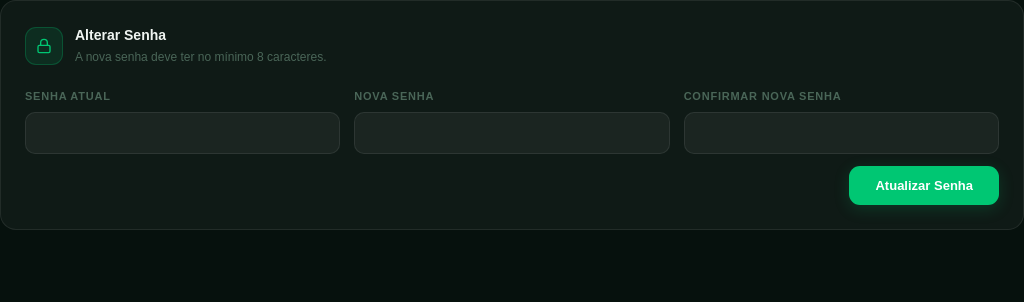
SecurityPasswordForm › falha técnica não limpa os campos nem finge sucesso
The width and height of the screenshot is (1024, 302).
Type "old-pass" into the password field labelled "Senha Atual".
click(183, 133); type("old-pass")  # box [25, 112, 340, 154]
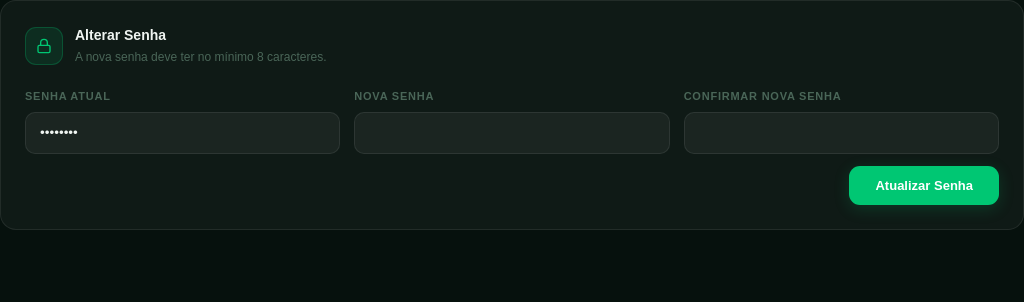
Type "NovaSenhaForte@123" into the password field labelled "Nova Senha".
click(512, 133); type("NovaSenhaForte@123")  # box [354, 112, 670, 154]
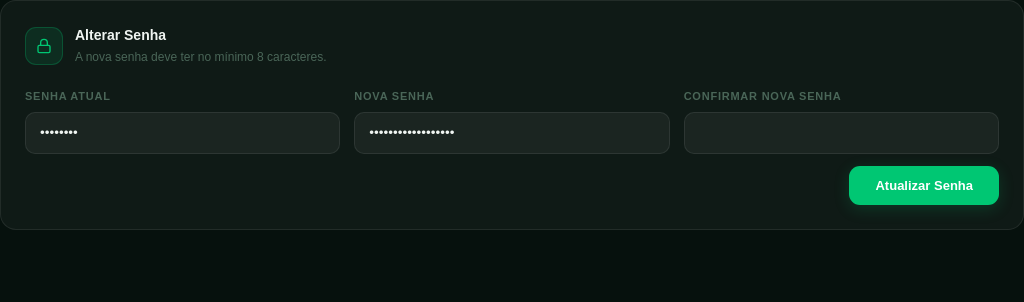
Type "NovaSenhaForte@123" into the password field labelled "Confirmar Nova Senha".
click(841, 133); type("NovaSenhaForte@123")  # box [684, 112, 999, 154]
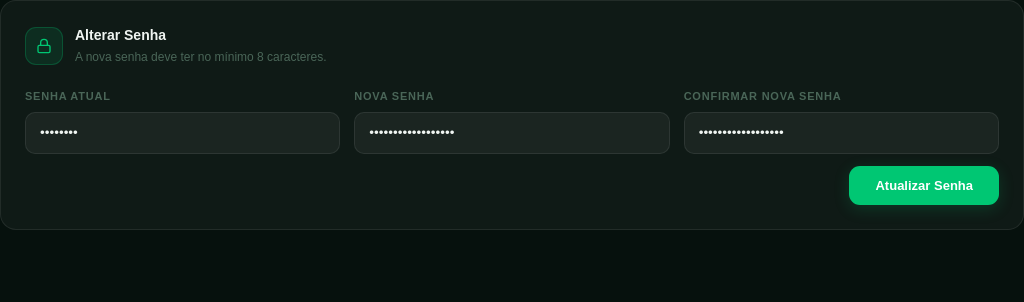
Click the button "Atualizar Senha".
click(924, 186)  # box [850, 166, 999, 205]
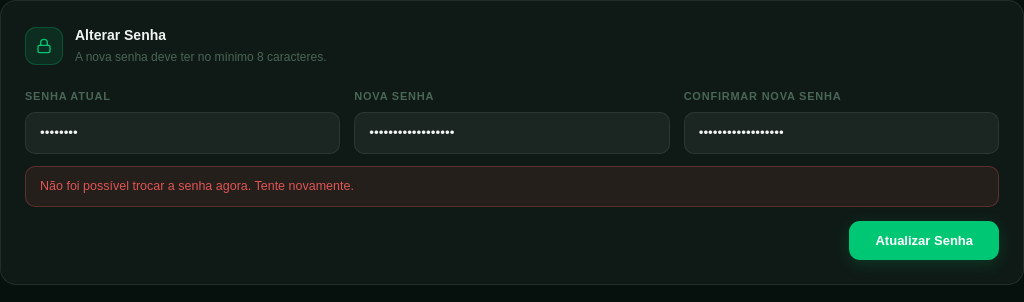
Now the message shows "Não foi possível trocar a senha", box [40, 179, 354, 193]
